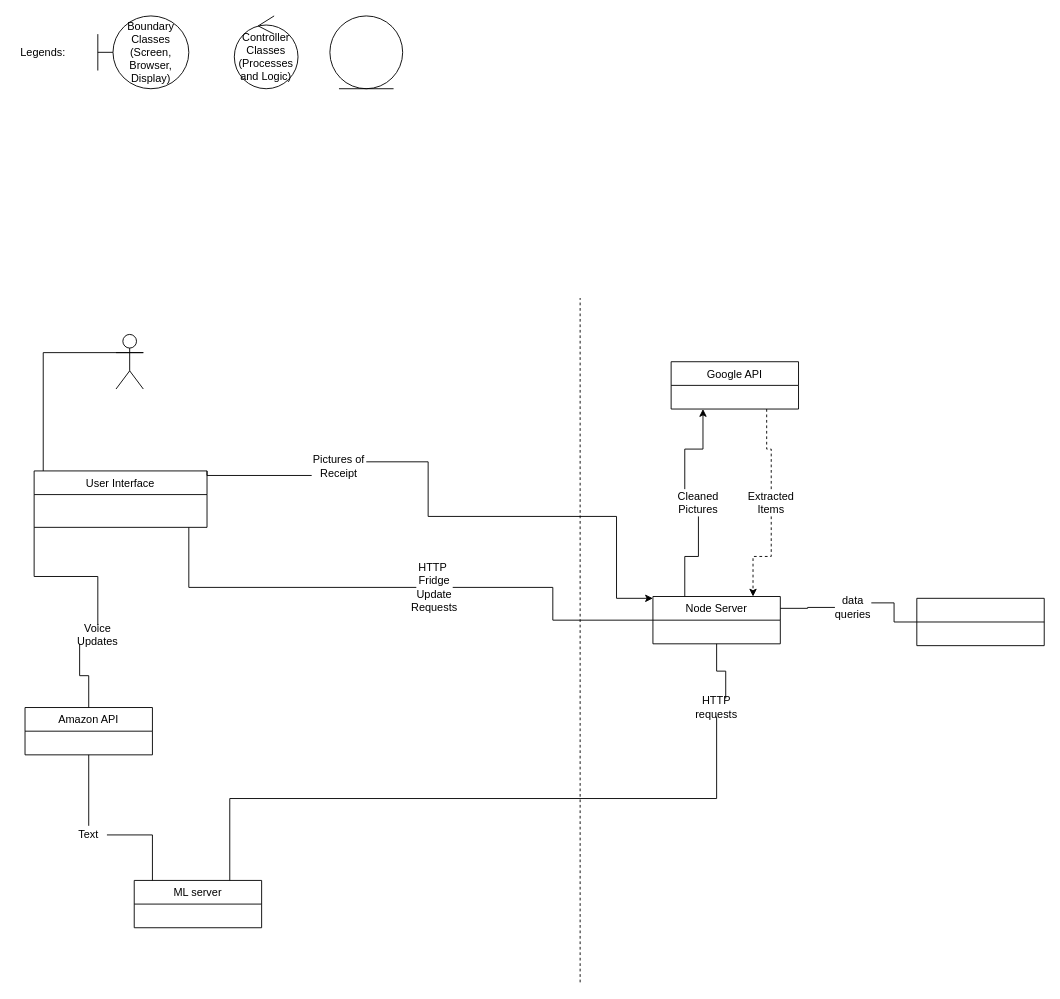
Image size: 1060x999. Some labels were removed from this diagram. Here are the shapes that lost their labels. From the top down, the centre of each, then its label:
At [366,52]: "Entity Classes (Data Storages, Database)".
At [129,361]: "Users".
At [980,621]: "PostgreSQL database".
